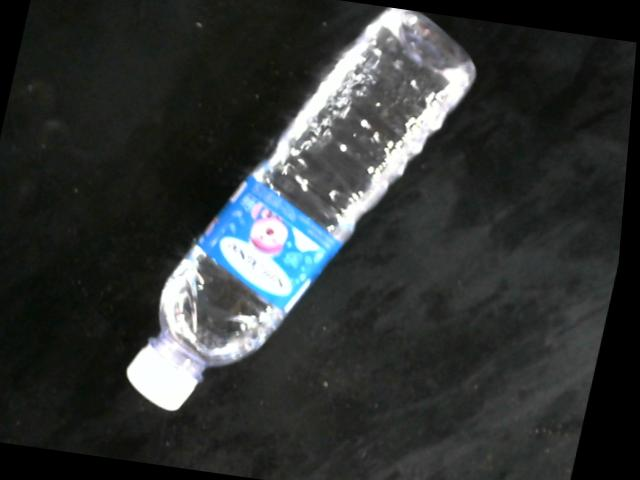bottle: (129, 7, 481, 415)
